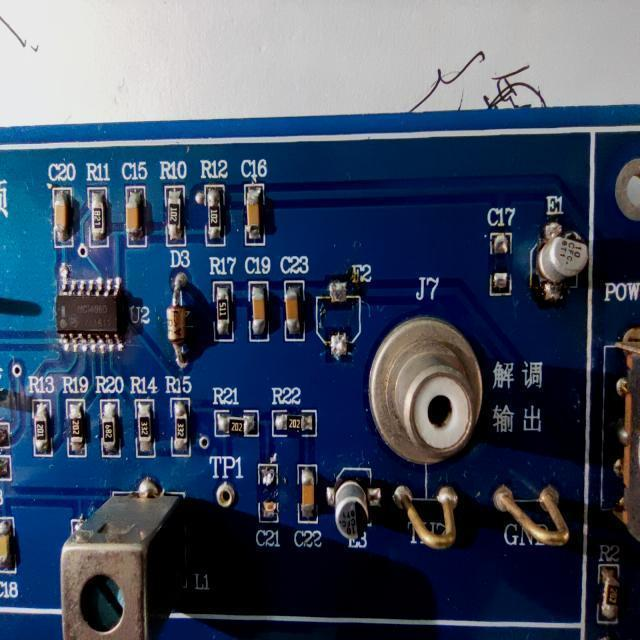Missing component: (312, 260, 376, 366), (484, 198, 516, 304), (254, 455, 284, 550), (0, 420, 13, 483)
